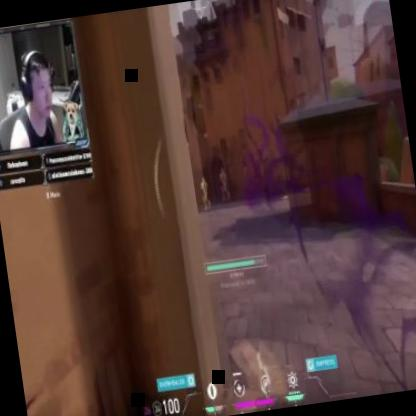enemy: (198, 176, 212, 210), (218, 167, 232, 201)
enemy_head: (220, 166, 224, 174), (202, 176, 204, 182)
